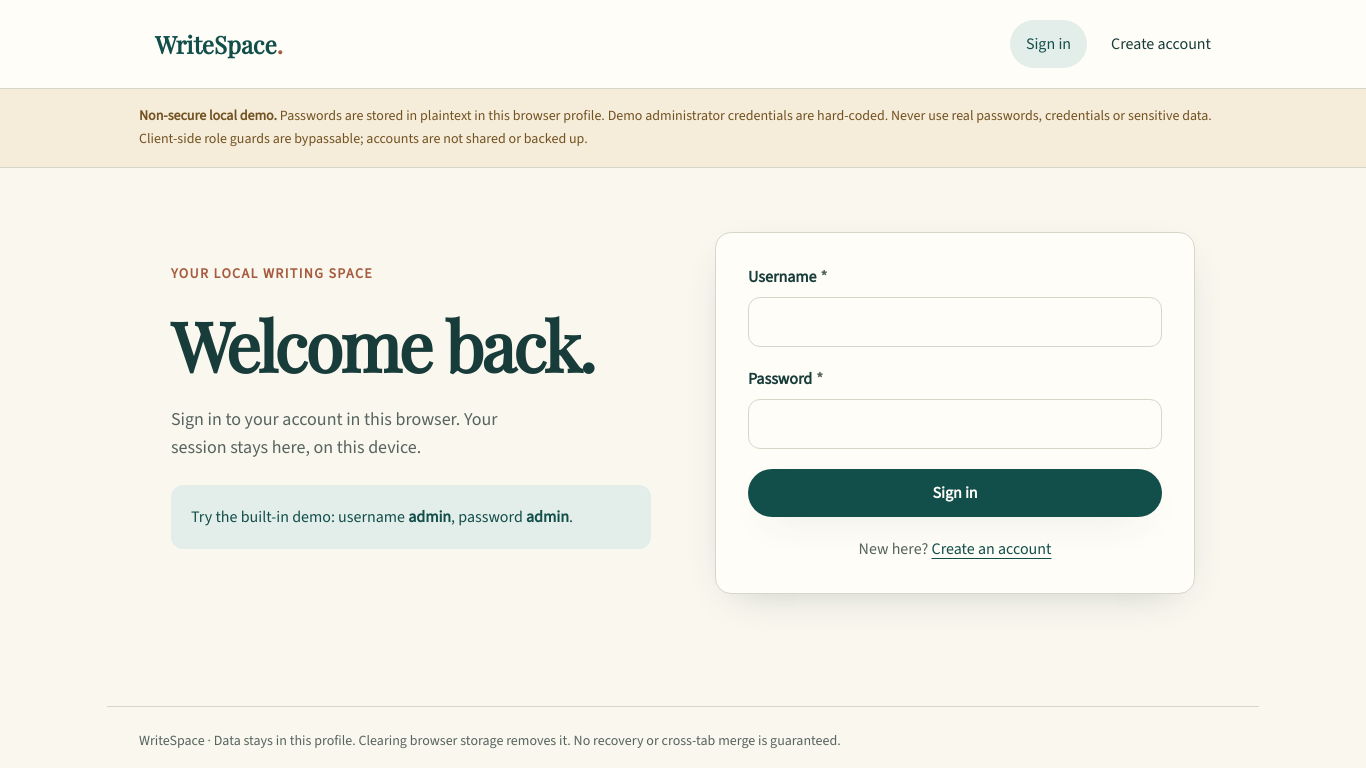
fields, avatars, navigation and forms › activates successful local user login and redirects to its role home
In the field labelled "Username": (955, 322) x1=748 y1=296 x2=1162 y2=346, type "reader"
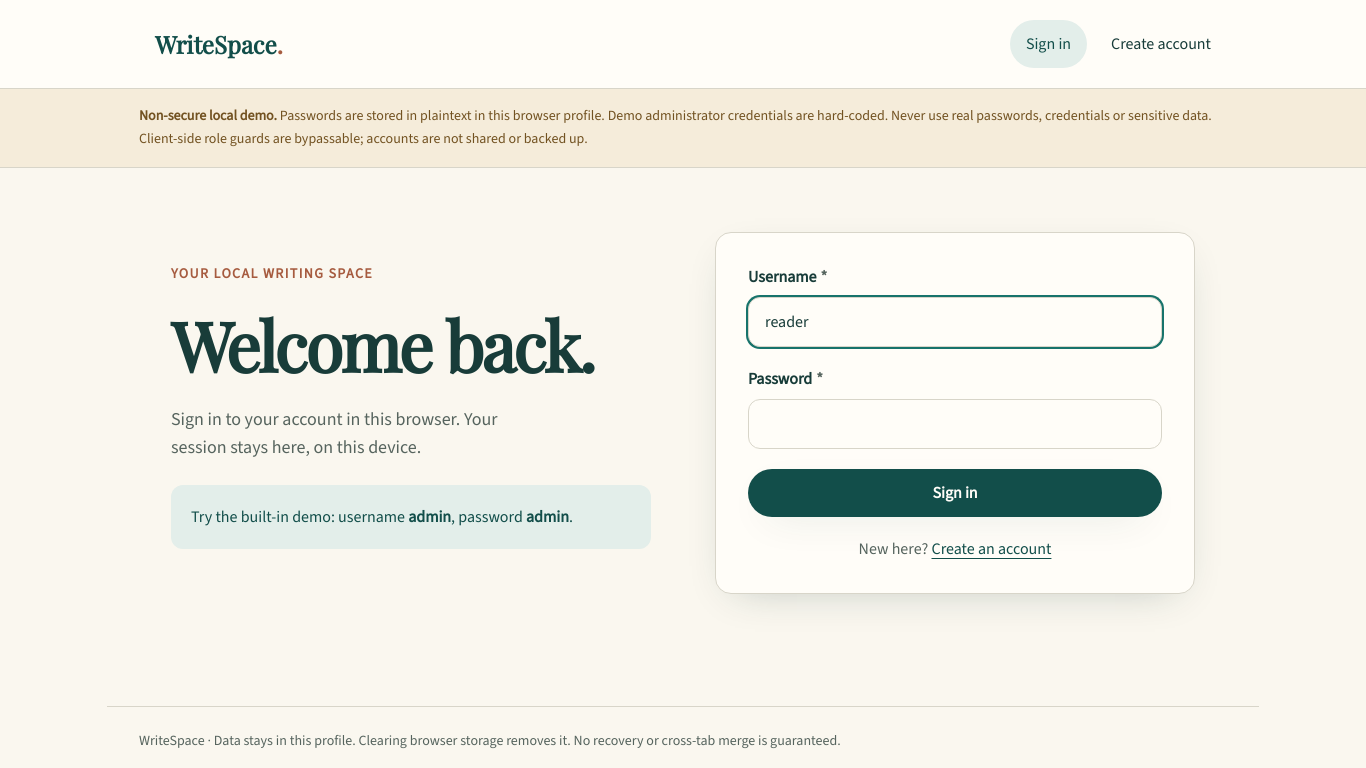
In the password field labelled "Password": (955, 424) x1=748 y1=398 x2=1162 y2=448, type "x"
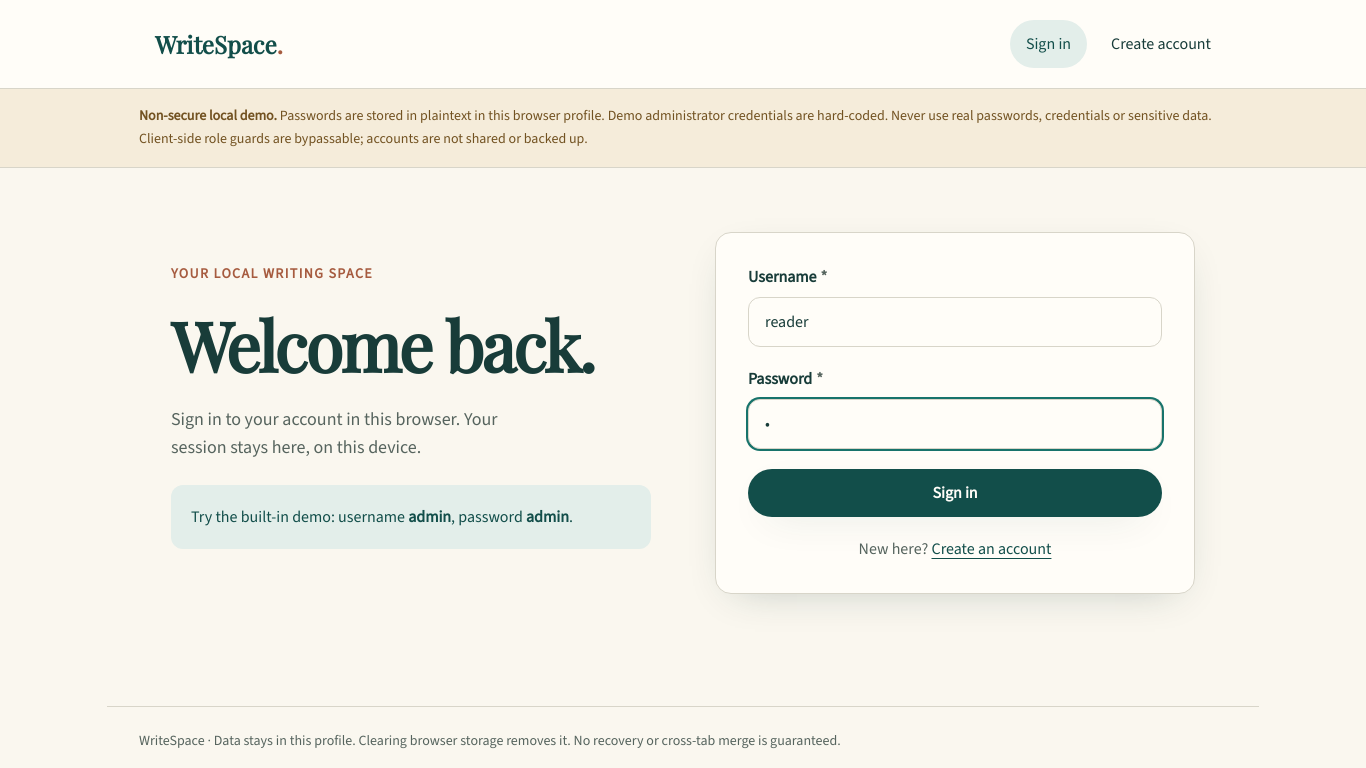
Click the button "Sign in": click(955, 492) x1=748 y1=468 x2=1162 y2=516
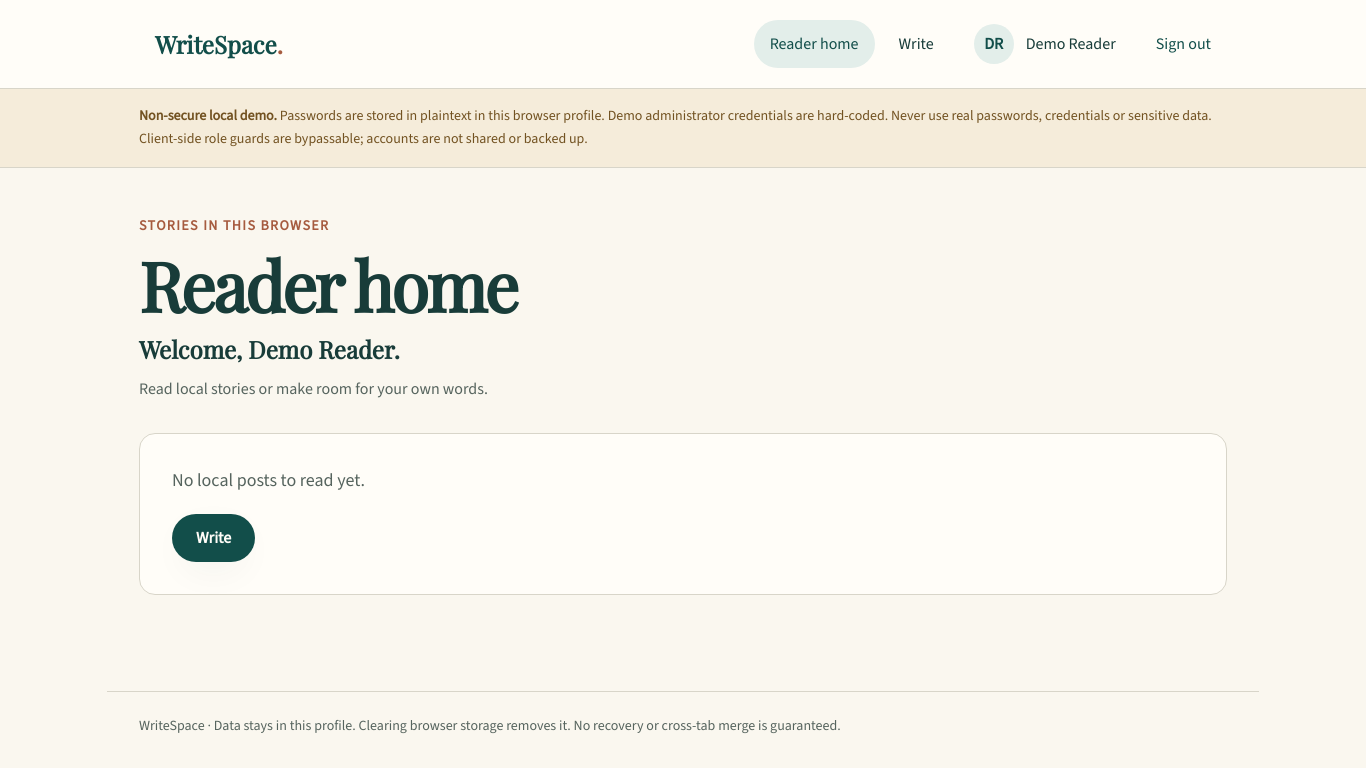
Expected: the heading "Welcome, Demo Reader." is shown, x1=139 y1=333 x2=400 y2=365
